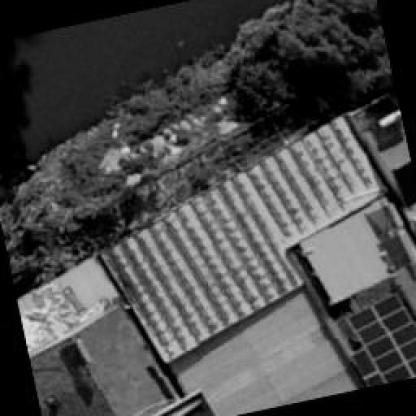solar-pv-panel: (345, 292, 416, 387)
